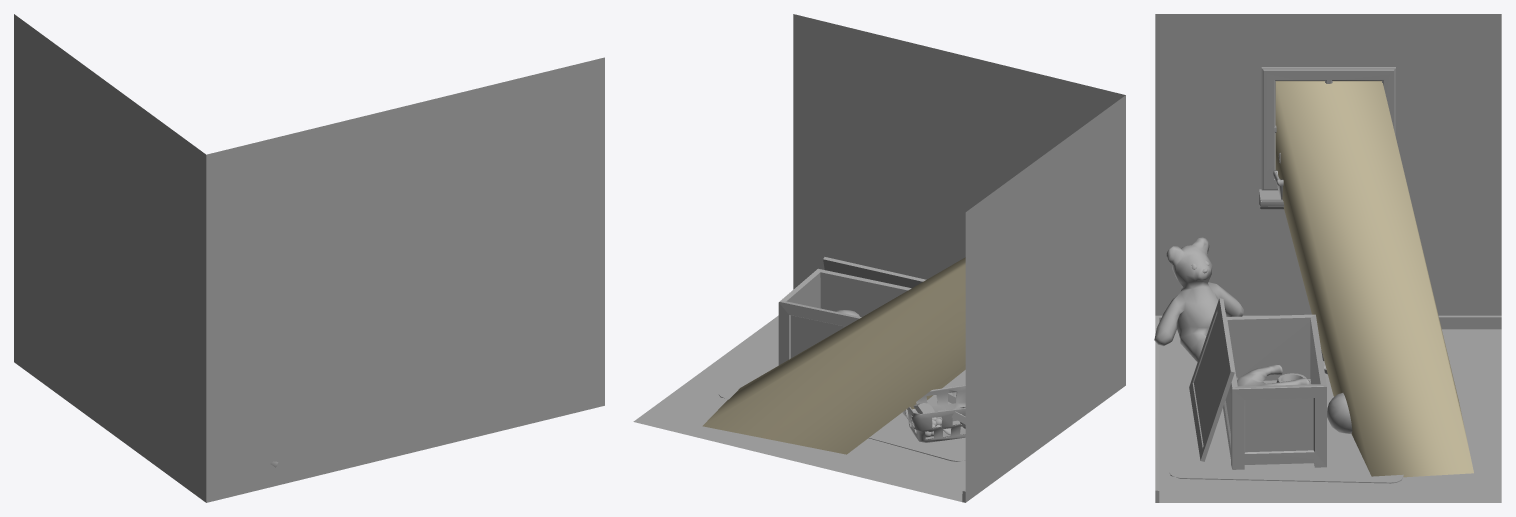
Rendered from Toy Box Scene_LOD1.fbx.
3 views of the same model, side by side, from view 1: azimuth 30°, elevation 25°; view 2: azimuth 150°, elevation 25°; view 3: azimuth 270°, elevation 25° (orthographic). The views are drawn at different scales.
Visible parts, largest first — view 1: Wall1, Wall2; view 2: Wall1, Wall2, Lightbeam2, Floor, Box_Base, Rug, Basket1, Box_Lid; view 3: Wall2, Lightbeam2, Floor, Box_Base, Rug, Bear, Box_Lid, WindowFrame, WallTrim2, WallTrim1, SpaceDogRetop, Ball1 (+1 smaller).
Part boxes in pixels (x1,y1,x2,y2): Wall1: (206,57,604,502); Wall2: (14,14,206,502); Wall1: (793,14,1125,289); Wall2: (965,95,1125,502); Lightbeam2: (702,257,965,454); Floor: (633,315,965,501); Box_Base: (778,268,911,365); Rug: (718,353,965,461); Basket1: (902,385,965,442); Box_Lid: (823,257,926,288); Wall2: (1155,14,1501,315); Lightbeam2: (1276,81,1473,477); Floor: (1159,329,1501,502); Box_Base: (1223,314,1326,469); Rug: (1169,349,1403,483); Bear: (1154,237,1243,361); Box_Lid: (1189,298,1234,461); WindowFrame: (1261,67,1395,190); WallTrim2: (1156,315,1501,329); WallTrim1: (1155,315,1159,502); SpaceDogRetop: (1236,364,1310,386); Ball1: (1327,393,1352,433).
Size of the model in its own units: 217 by 184 by 182.
